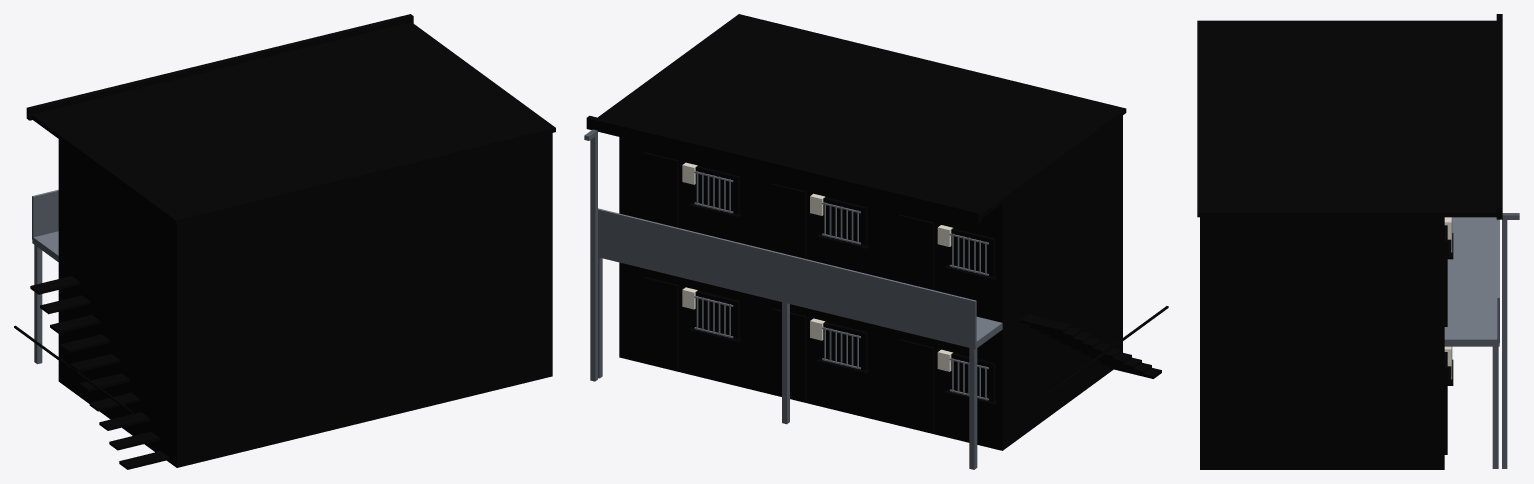
The model's file is Apartment.fbx.
3 views of the same model, side by side, from view 1: azimuth 30°, elevation 25°; view 2: azimuth 150°, elevation 25°; view 3: azimuth 270°, elevation 25° (orthographic). The views are drawn at different scales.
Visible parts, largest first — view 1: Body.004, RoofTop, Stairs, Fascia, Corridor; view 2: Body.004, RoofTop, Corridor, Doors, WinFrame.004, Fascia, Grilles.004, Stairs, Glass.004, Pipes.004, Meters.004, LitGlass.004; view 3: Body.004, RoofTop, Corridor, Pipes.004, Fascia, Doors.
Part boxes in pixels (x1=…): Body.004: x1=58, y1=133, x2=552, y2=467; RoofTop: x1=31, y1=22, x2=555, y2=224; Stairs: x1=14, y1=276, x2=169, y2=469; Fascia: x1=26, y1=14, x2=413, y2=120; Corridor: x1=32, y1=189, x2=58, y2=364; Body.004: x1=619, y1=115, x2=1122, y2=450; RoofTop: x1=598, y1=14, x2=1126, y2=218; Corridor: x1=598, y1=208, x2=1002, y2=469; Doors: x1=643, y1=152, x2=934, y2=432; WinFrame.004: x1=689, y1=166, x2=996, y2=405; Fascia: x1=586, y1=115, x2=981, y2=224; Grilles.004: x1=694, y1=171, x2=988, y2=400; Stairs: x1=1020, y1=306, x2=1168, y2=395; Glass.004: x1=698, y1=174, x2=989, y2=330; Pipes.004: x1=584, y1=129, x2=597, y2=381; Meters.004: x1=682, y1=162, x2=952, y2=371; LitGlass.004: x1=826, y1=332, x2=989, y2=395; Body.004: x1=1200, y1=217, x2=1444, y2=469; RoofTop: x1=1197, y1=20, x2=1496, y2=217; Corridor: x1=1444, y1=217, x2=1499, y2=468; Pipes.004: x1=1502, y1=213, x2=1519, y2=468; Fascia: x1=1496, y1=14, x2=1502, y2=219; Doors: x1=1444, y1=225, x2=1447, y2=454.
Bounding box in the file's own units: 10.17 × 5.82 × 6.45.
